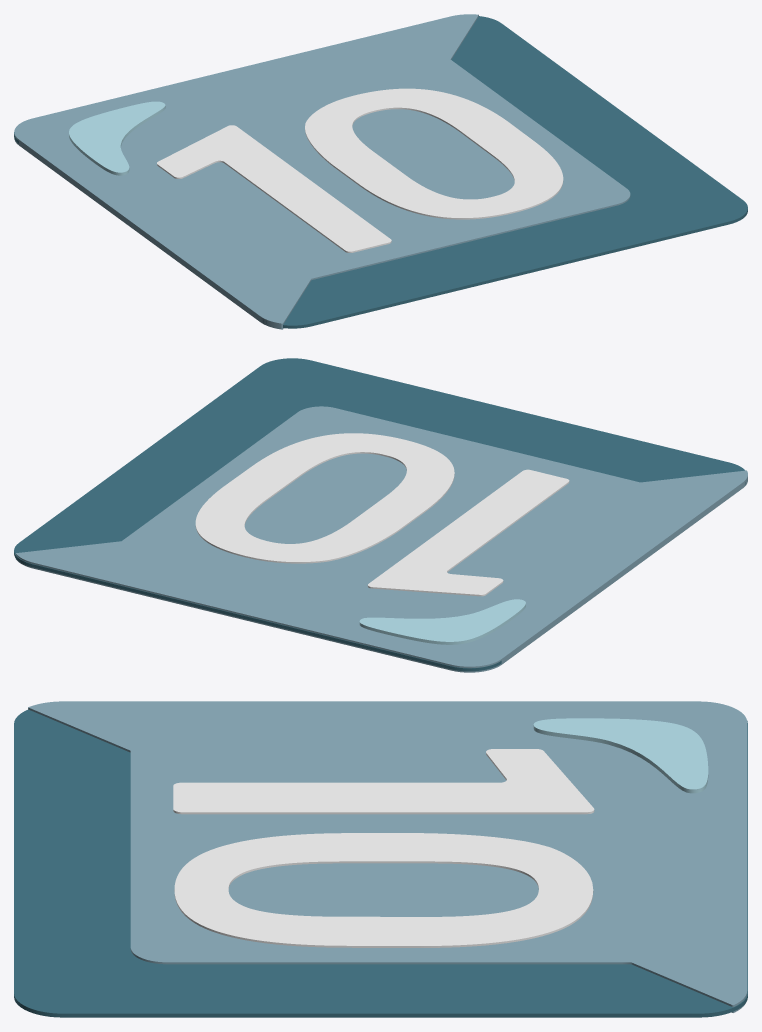
The model's file is emoji_u1f51f.glb.
3 renders of one model, top to bottom at view 1: azimuth 30°, elevation 25°; view 2: azimuth 150°, elevation 25°; view 3: azimuth 270°, elevation 25°, orthographic. The views are drawn at different scales.
Parts seen in each view (by area): view 1: emoji_u1f51f; view 2: emoji_u1f51f; view 3: emoji_u1f51f.
Part boxes in pixels (x1=…): emoji_u1f51f: x1=14, y1=14, x2=747, y2=329; emoji_u1f51f: x1=14, y1=358, x2=747, y2=672; emoji_u1f51f: x1=14, y1=701, x2=747, y2=1017.
Size of the model in its own units: 0.0339 by 0.0008 by 0.0339.
